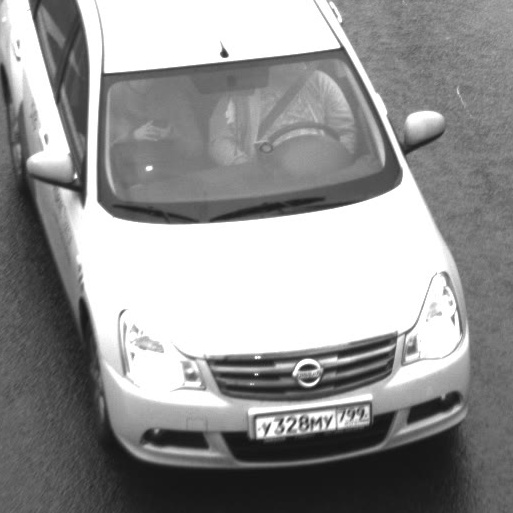plate: (244, 389, 379, 446)
